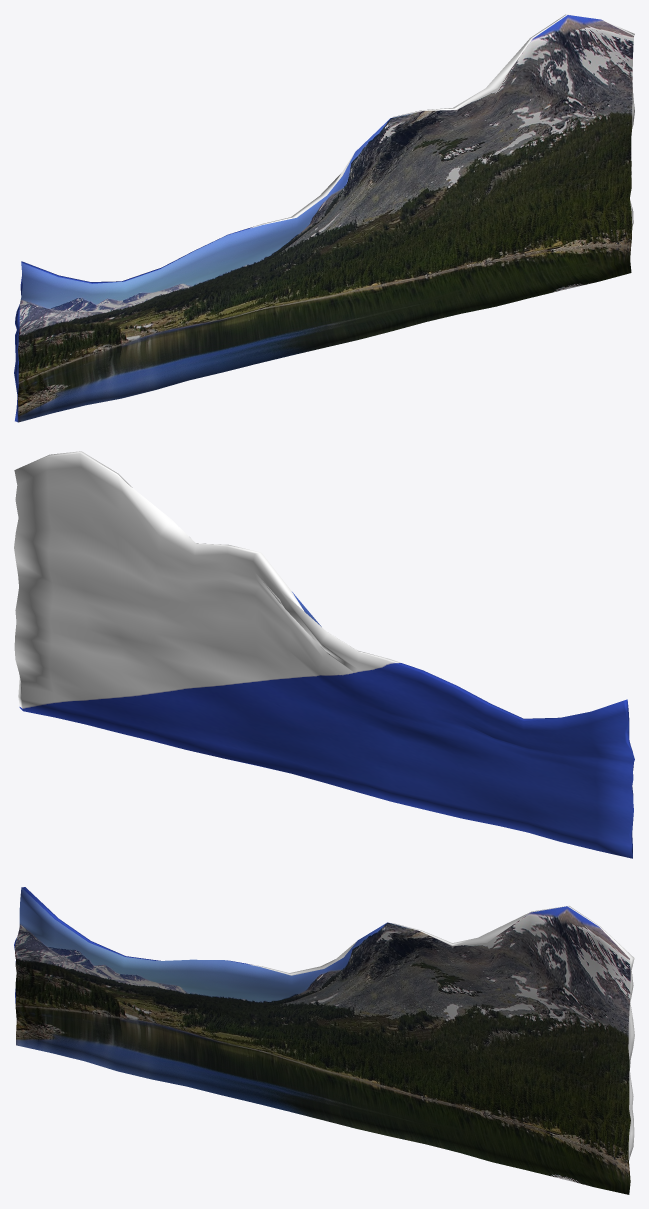
Rendered from mountains.obj.
The picture shows the model from 3 angles, top to bottom: view 1: azimuth 30°, elevation 25°; view 2: azimuth 150°, elevation 25°; view 3: azimuth 330°, elevation 25°; orthographic projection.
Visible parts, largest first — view 1: Grid.003; view 2: Grid.003; view 3: Grid.003.
Boxes of the visible parts, box(x1,y1,x2,y2) form: Grid.003: box(14, 14, 634, 422); Grid.003: box(14, 451, 634, 858); Grid.003: box(14, 887, 634, 1194).
Bounding box in the file's own units: 9.58 × 4.04 × 0.2132.
